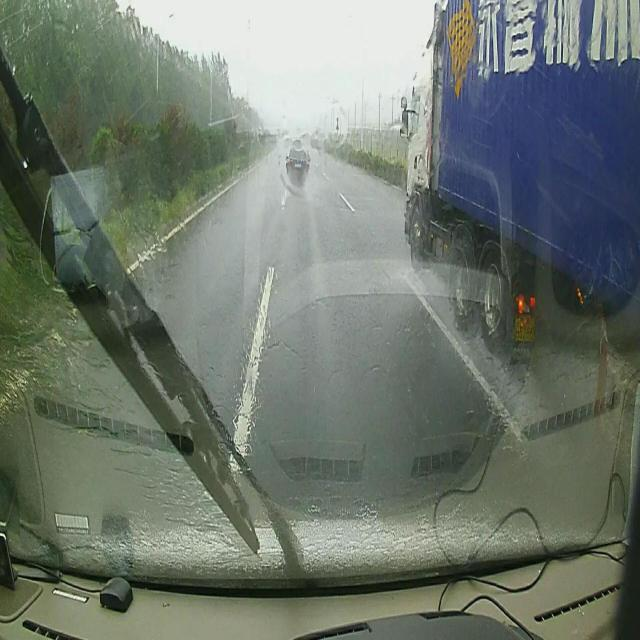car: (284, 145, 310, 178)
